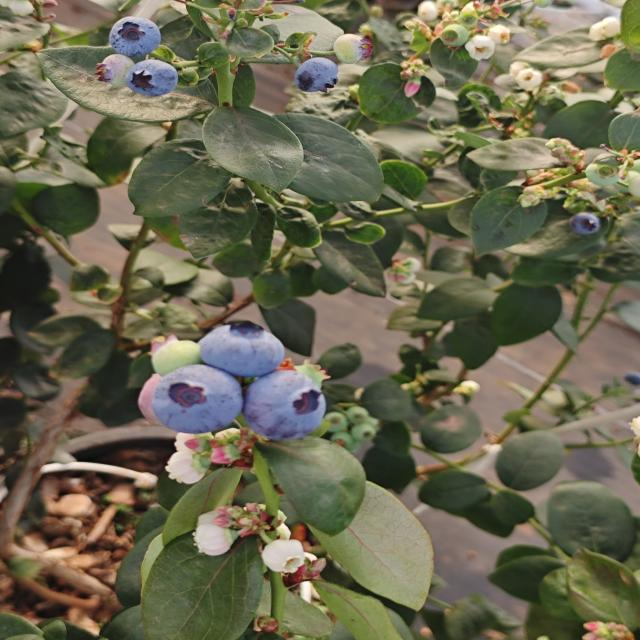ripe: (150, 363, 244, 435), (241, 368, 329, 442), (195, 320, 287, 378), (107, 15, 163, 59), (123, 58, 180, 99), (291, 56, 341, 95), (564, 205, 607, 239)
